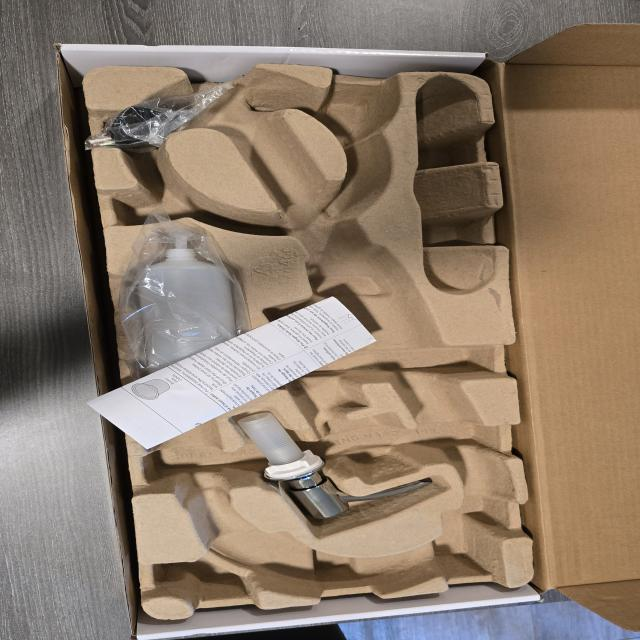1m: (136, 68, 503, 590)
2: (237, 411, 432, 522)
3o: (132, 230, 238, 398)
4m: (413, 75, 497, 294)
5m: (321, 90, 397, 140)
6m: (115, 158, 227, 230)
7: (82, 83, 231, 153)
8: (83, 296, 379, 450)
